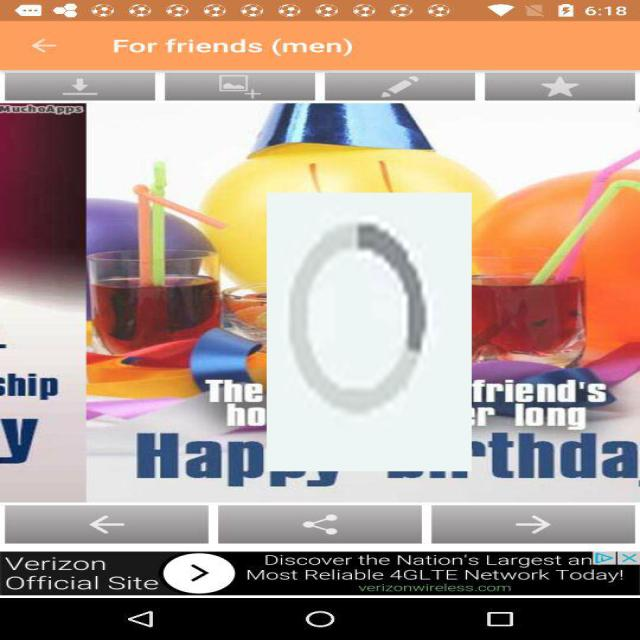misdirection: (266, 193, 472, 471)
